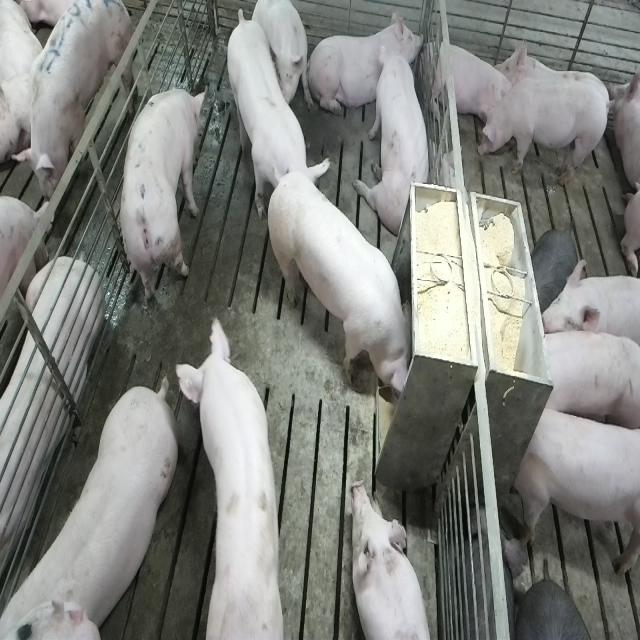Feeding: (271, 163, 422, 404)
Sitting: (362, 52, 433, 240), (252, 2, 310, 116)
Standing: (5, 377, 182, 636), (183, 308, 287, 636), (17, 0, 132, 208), (228, 13, 333, 223), (513, 402, 638, 578), (118, 84, 206, 312), (478, 80, 612, 189), (537, 328, 639, 434), (538, 255, 640, 357)
Sternal_lying: (0, 182, 102, 583), (349, 481, 433, 640), (310, 15, 422, 121), (428, 36, 509, 132)
